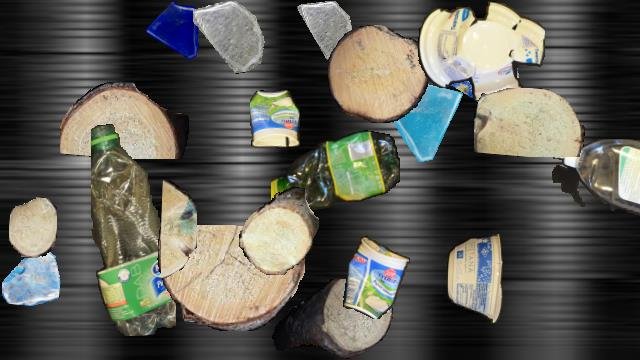glass: (428, 30, 522, 124), (382, 75, 472, 165), (193, 1, 265, 73), (145, 1, 209, 65), (2, 247, 60, 305), (297, 1, 355, 59)
plastic: (91, 123, 175, 335), (418, 1, 544, 101), (271, 126, 399, 218), (552, 139, 640, 223), (341, 236, 411, 318), (447, 234, 503, 322), (250, 90, 300, 148)
wood: (157, 225, 305, 331), (328, 25, 428, 123), (271, 279, 393, 359), (60, 82, 188, 158), (474, 88, 584, 156), (239, 187, 319, 275), (161, 180, 197, 278), (9, 197, 57, 257)
